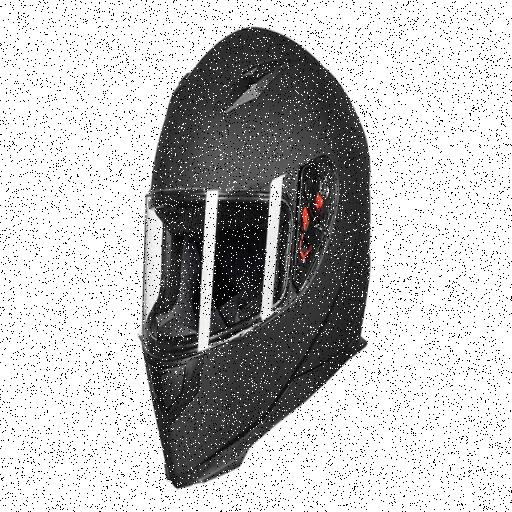Helmet: (138, 32, 372, 470)
